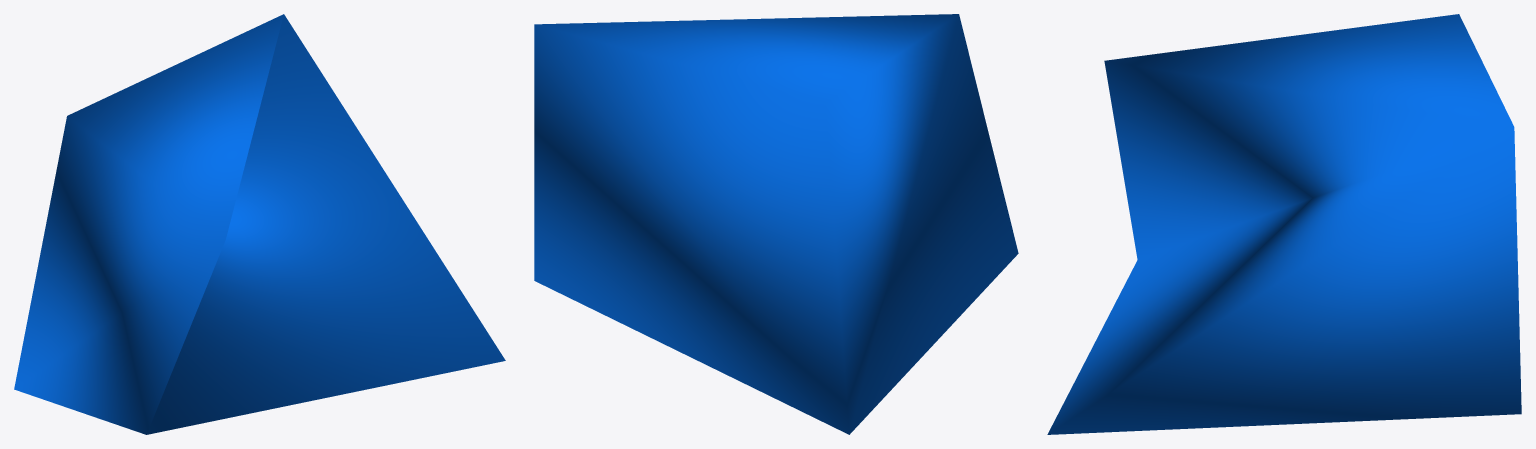
The model's file is rock9.glb.
3 renders of one model, left to right at view 1: azimuth 30°, elevation 25°; view 2: azimuth 150°, elevation 25°; view 3: azimuth 270°, elevation 25°, orthographic. The views are drawn at different scales.
Visible parts, largest first — view 1: rock.009; view 2: rock.009; view 3: rock.009.
Boxes of the visible parts, x1=… form: rock.009: x1=14, y1=14, x2=505, y2=434; rock.009: x1=534, y1=14, x2=1018, y2=434; rock.009: x1=1047, y1=14, x2=1521, y2=434.
Bounding box in the file's own units: 3.59 × 3.21 × 3.56.
